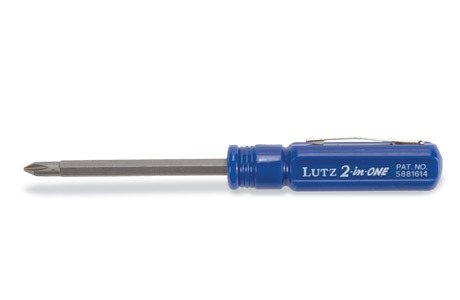screwdriver: (21, 133, 443, 195)
